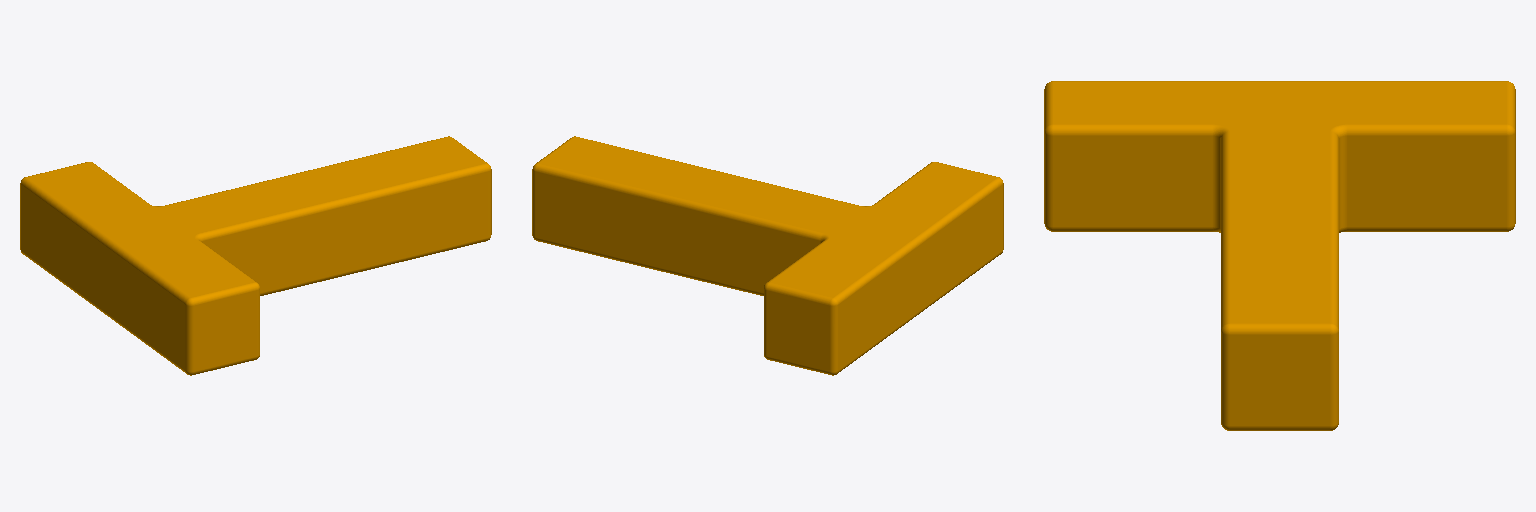
The robot description file, URDF, robot "t_shape":
<?xml version="1.0"?>
<!-- The push T has volume 2*(0.16*0.04*0.04) = 512,000 mm^3 -->
<!-- The push T has mass 1 kg -->
<!-- Therefore, it has a density of 195.3125 kg/m^3 -->
<robot name="t_shape">
  <link name="t">
    <visual>
      <geometry>
        <mesh filename="push_t_white.obj"/>
      </geometry>
    </visual>
    <inertial>
        <origin rpy="0 0 0" xyz="-0.05 0 0"/>
        <mass value="1.0"/>
        <inertia ixx="0.001266586" ixy="0" ixz="0" iyy="0.003766426" iyz="0" izz="0.004766362"/>
    </inertial>
    <collision>
      <geometry>
        <mesh filename="push_t_white.obj"/>
      </geometry>
    </collision>
  </link>
</robot>

--- Render facts (derived) ---
Views: 3 orthographic renders of the robot side by side, from view 1: azimuth 30°, elevation 25°; view 2: azimuth 150°, elevation 25°; view 3: azimuth 270°, elevation 25°.
Robot: t_shape — 1 links, 0 joints (none); root link t; default pose: every joint at zero.
Links seen in each view (by area): view 1: t; view 2: t; view 3: t.
Boxes of the visible links, <box> form: t: <box>20,136,491,375</box>; t: <box>532,136,1003,375</box>; t: <box>1044,81,1515,430</box>.
Bounding box of the posed robot: 0.2 × 0.16 × 0.04 m (x, y, z).
Meshes: 1 distinct files referenced, 1 mesh visuals loaded (1 OBJ).